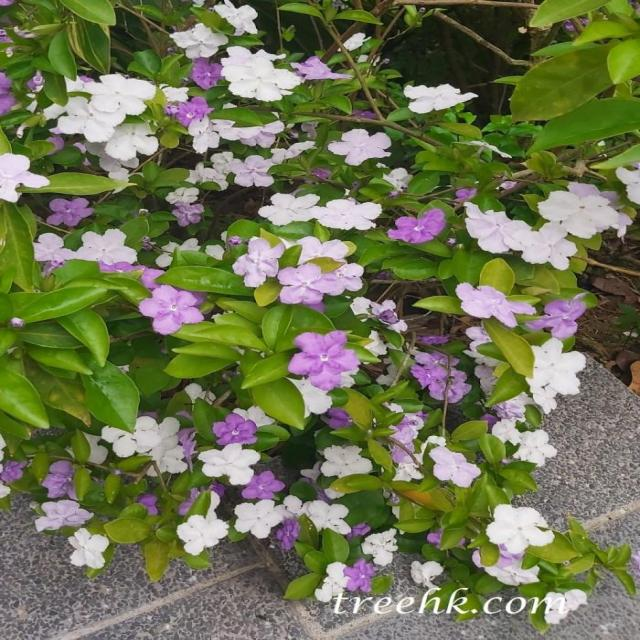organic waste: (247, 212, 379, 317), (33, 62, 186, 144), (522, 177, 630, 260), (270, 328, 378, 394), (193, 43, 295, 104), (127, 279, 219, 341), (74, 413, 180, 461), (382, 78, 500, 116), (532, 326, 596, 396), (193, 434, 262, 490), (163, 505, 233, 553), (304, 439, 380, 481), (327, 123, 392, 172), (494, 510, 559, 558), (53, 520, 115, 570), (303, 500, 357, 540), (519, 412, 548, 464)
